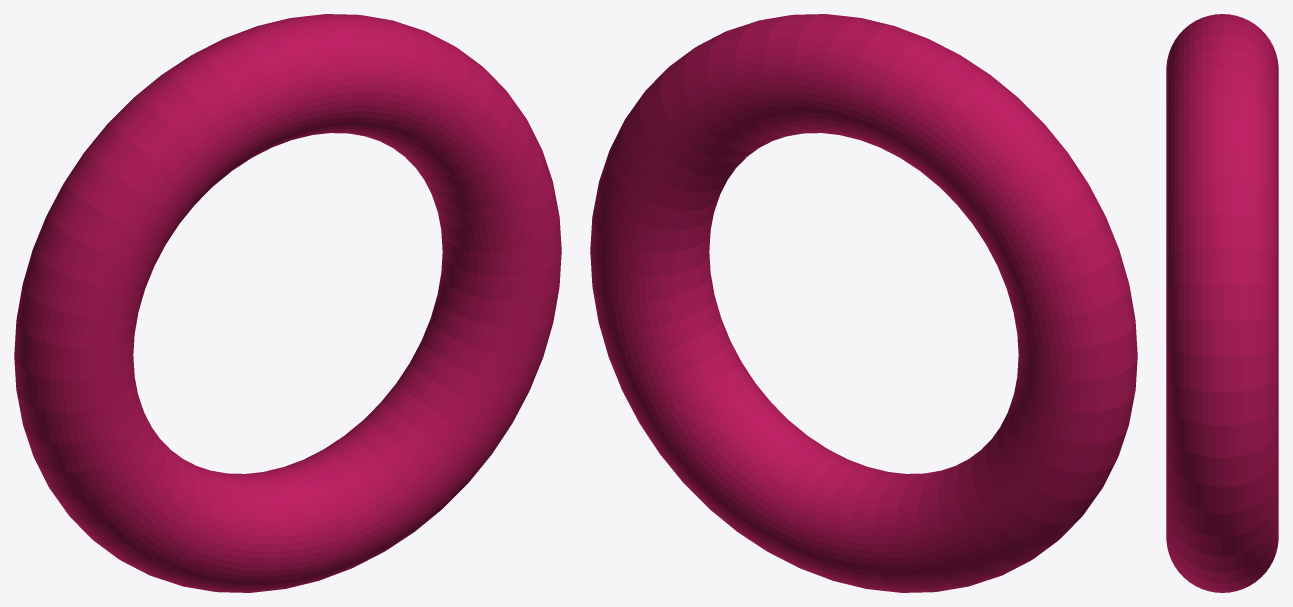
The picture shows the model from 3 angles, left to right: view 1: azimuth 30°, elevation 25°; view 2: azimuth 150°, elevation 25°; view 3: azimuth 270°, elevation 25°; orthographic projection. The views are drawn at different scales.
Visible parts, largest first — view 1: world; view 2: world; view 3: world.
Boxes of the visible parts, <box> form: world: <box>14,14,561,592</box>; world: <box>590,14,1137,592</box>; world: <box>1166,14,1278,592</box>.
Size of the model in its own units: 36.4 by 36.33 by 7.05.
